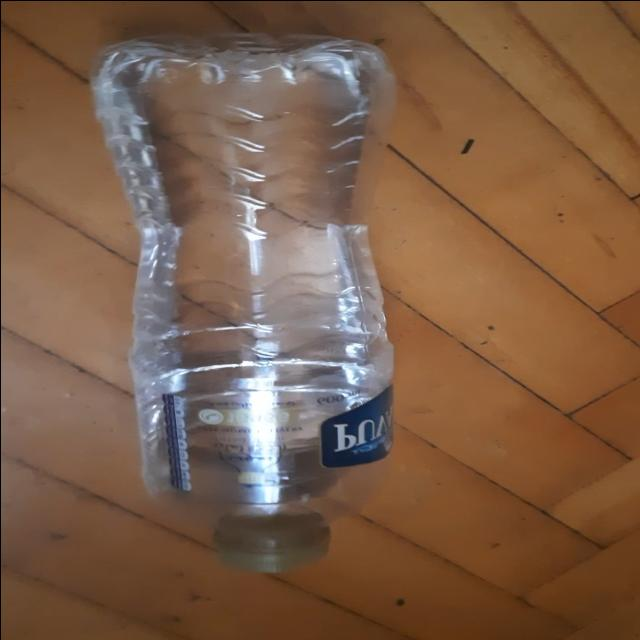Plastic: (87, 23, 398, 572)
